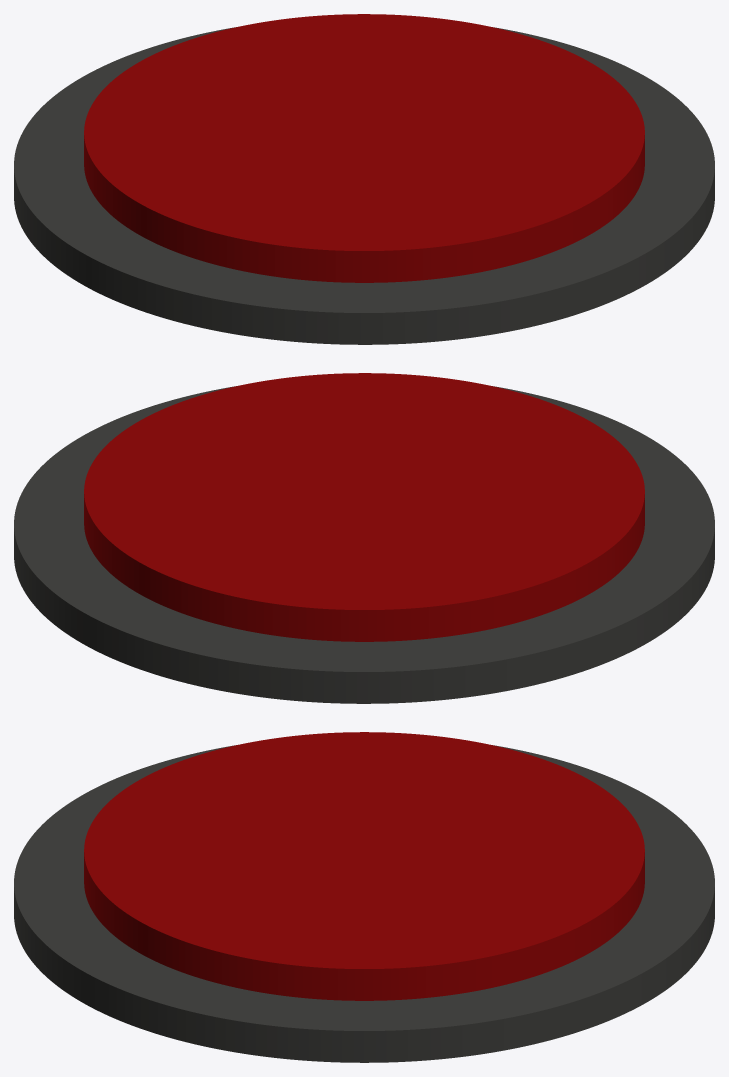
The model's file is PressurePlateOfficial.fbx.
3 views of the same model, one above another, from view 1: azimuth 30°, elevation 25°; view 2: azimuth 150°, elevation 25°; view 3: azimuth 270°, elevation 25° (orthographic).
Parts seen in each view (by area): view 1: Cylinder, Cylinder.001; view 2: Cylinder, Cylinder.001; view 3: Cylinder, Cylinder.001.
Part boxes in pixels (x1=…): Cylinder: x1=84, y1=14, x2=644, y2=282; Cylinder.001: x1=14, y1=27, x2=714, y2=344; Cylinder: x1=84, y1=373, x2=644, y2=641; Cylinder.001: x1=14, y1=386, x2=714, y2=703; Cylinder: x1=84, y1=732, x2=644, y2=1000; Cylinder.001: x1=14, y1=745, x2=714, y2=1062.
Size of the model in its own units: 200 by 20.18 by 200.
